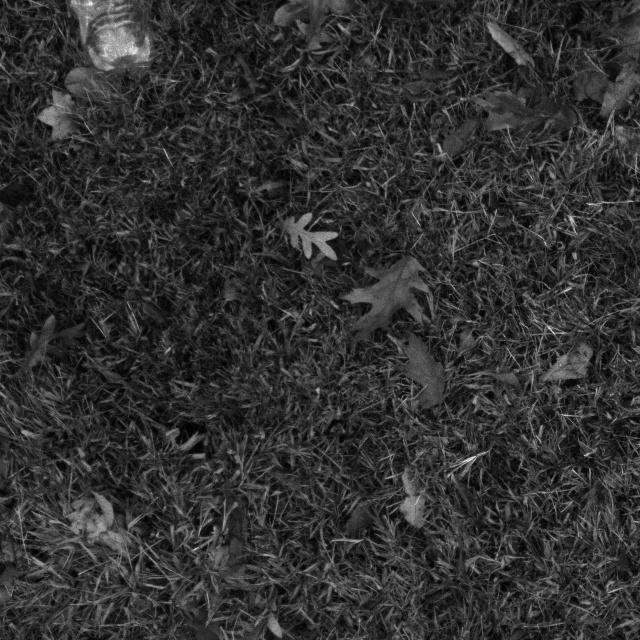bottle: (50, 0, 138, 79)
